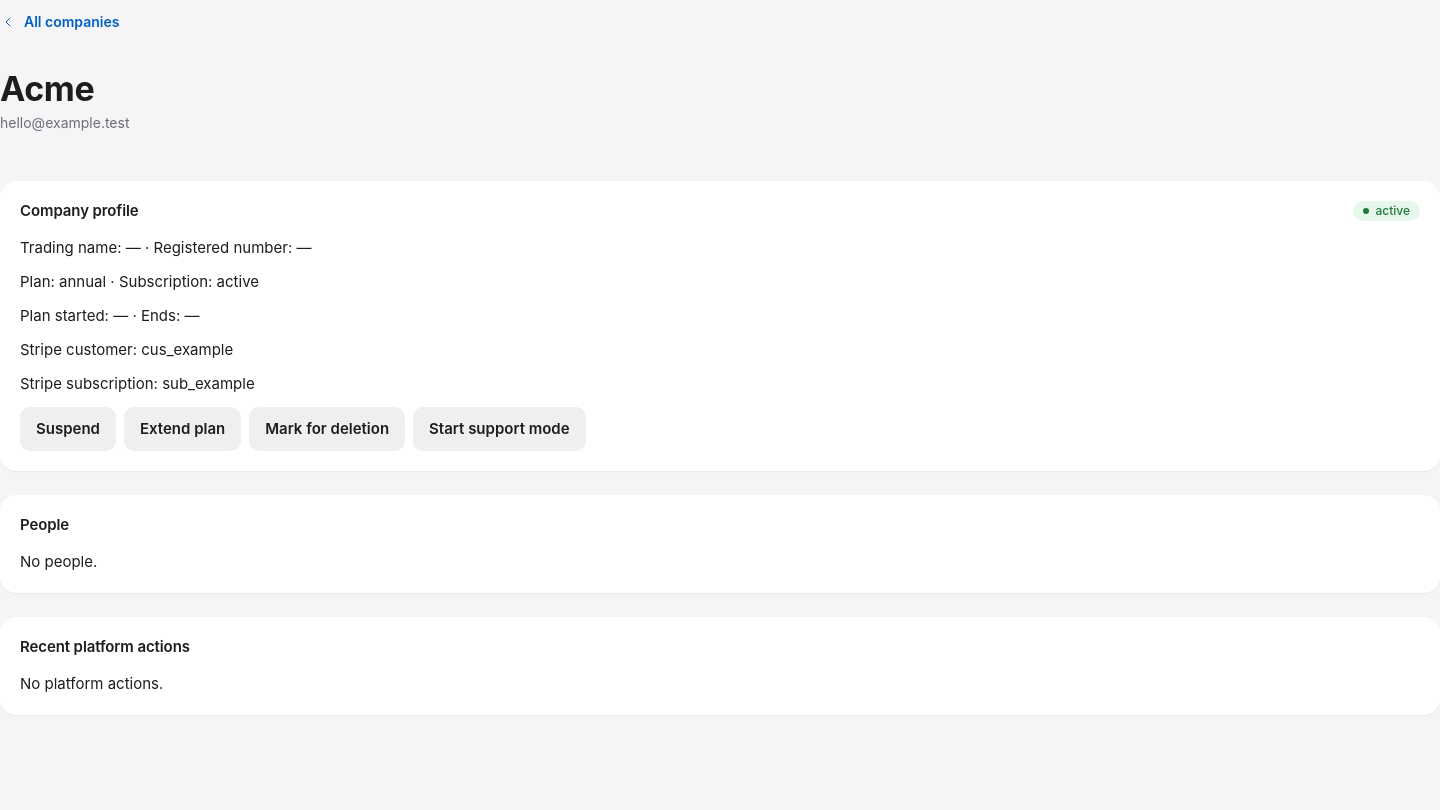
Test case: company actions › requires a reason for Extend plan
Click the button "Extend plan". click: (183, 429)
box: [124, 407, 241, 451]
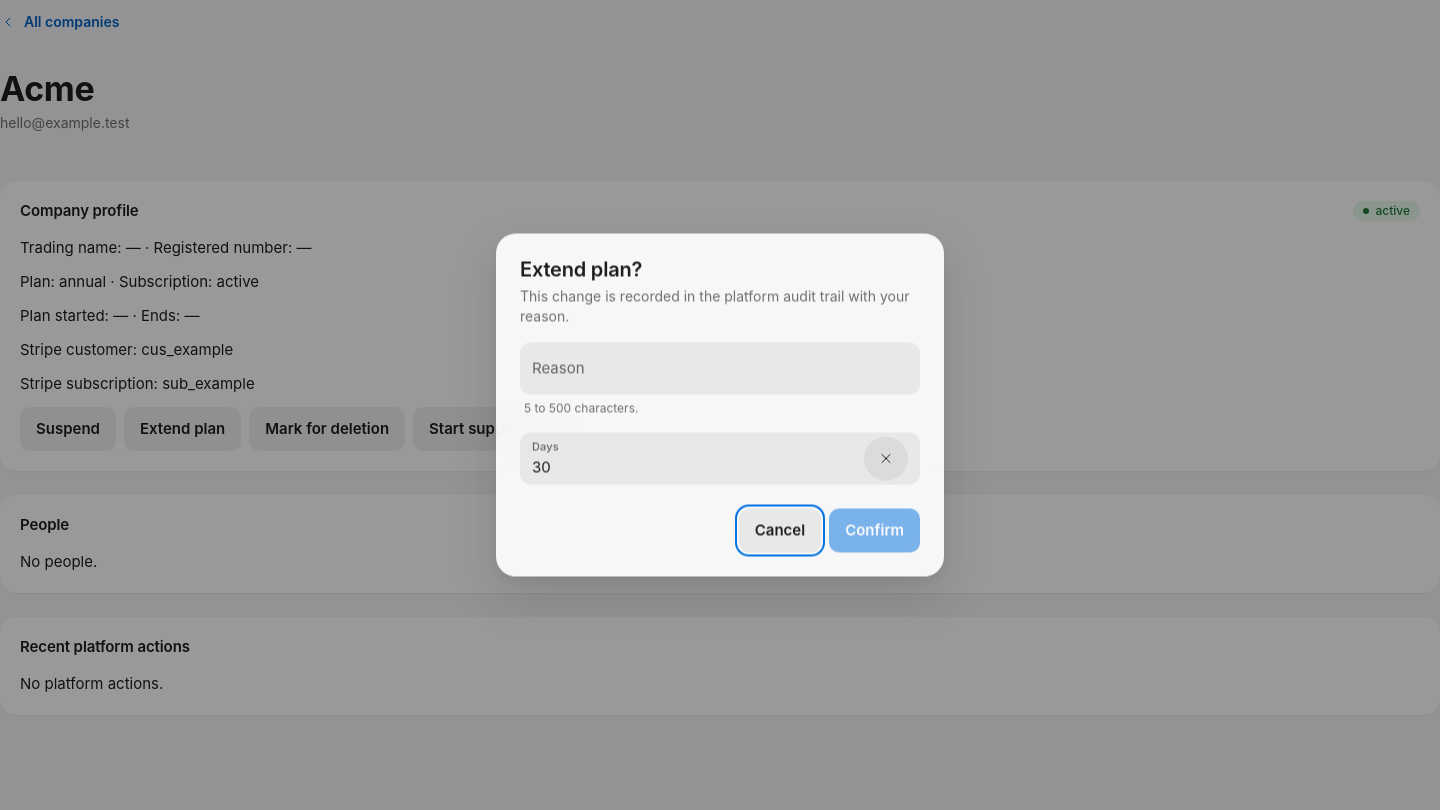
Now the button "Confirm" is disabled, box [829, 508, 920, 552]
